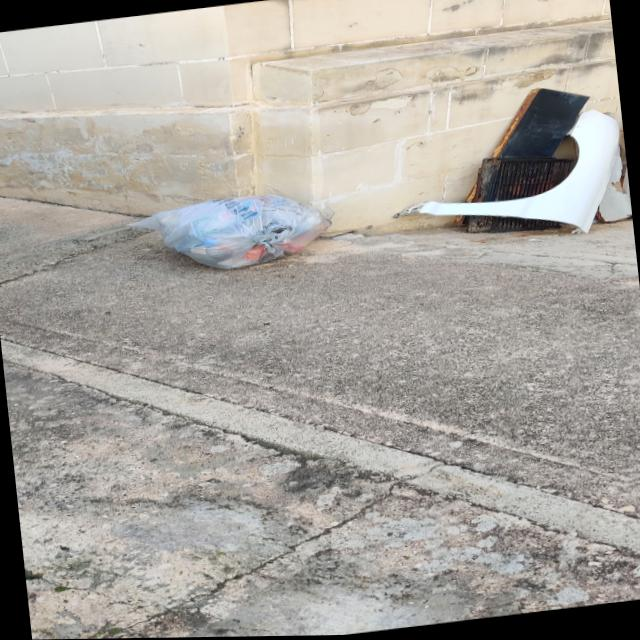Recyclable Material -Grey Bags-: (122, 194, 333, 271)
